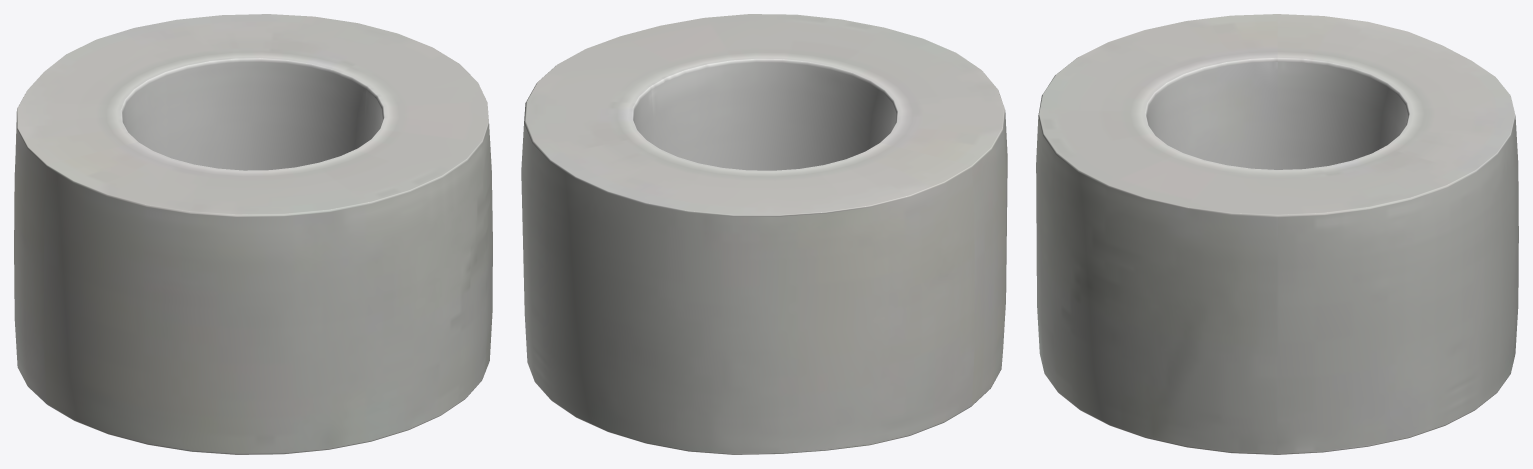
File: medical_tape.glb
3 views of the same model, side by side, from view 1: azimuth 30°, elevation 25°; view 2: azimuth 150°, elevation 25°; view 3: azimuth 270°, elevation 25° (orthographic).
Visible parts, largest first — view 1: medical_tape; view 2: medical_tape; view 3: medical_tape.
Part boxes in pixels (bbox=[...]): medical_tape: bbox=[14, 14, 492, 454]; medical_tape: bbox=[521, 14, 1007, 454]; medical_tape: bbox=[1036, 14, 1518, 454].
Size of the model in its own units: 0.0453 by 0.025 by 0.0452.
1 material, 1 textured.
